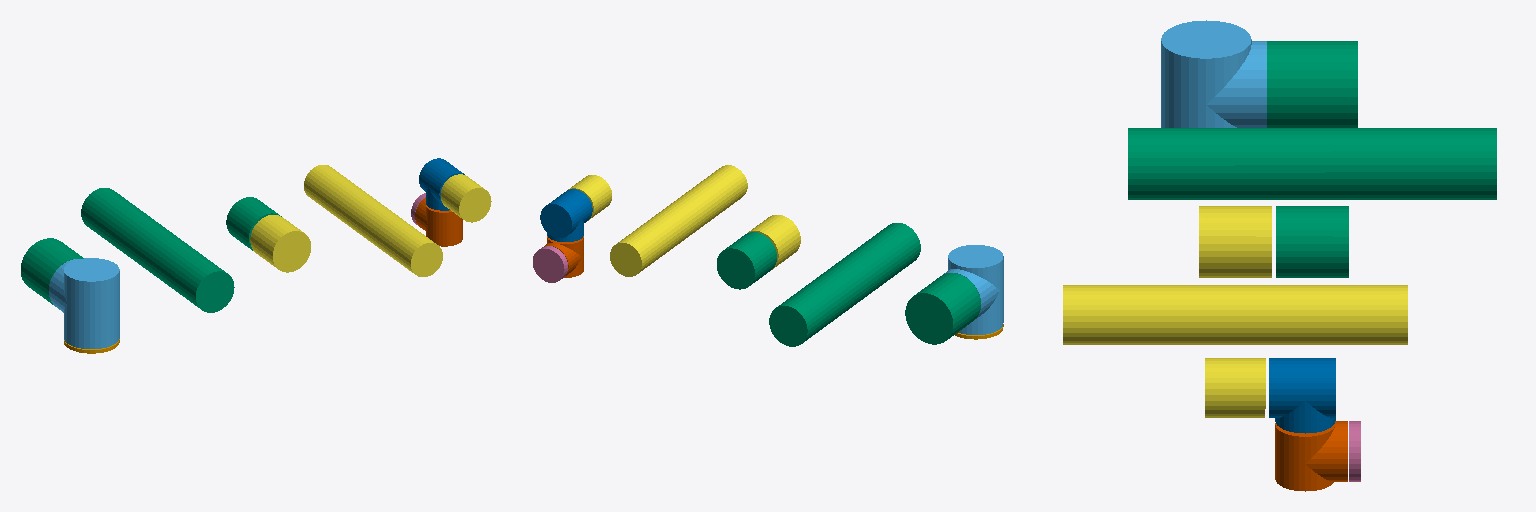
URDF robot description (UR10_CB3):
<robot name="UR10_CB3">
    <link name="base">
        <visual>
            <origin xyz="0 0 0.005" rpy="0 0 0"/>
            <geometry>
                <cylinder radius="0.075" length="0.01"/>
            </geometry>
        </visual>
        <inertial>
            <mass value="7.1"/>
        </inertial>
    </link>
    <link name="shoulder" >
        <visual>
            <origin xyz="0 0.0 0.1125" rpy="0 0 0"/>
            <geometry>
                <cylinder radius="0.075" length="0.20"/>
            </geometry>
        </visual>
        <visual>
            <origin xyz="0 .05 0.128" rpy="1.57 0 0"/>
            <geometry>
                <cylinder radius="0.075" length="0.1"/>
            </geometry>
        </visual>
        <inertial>
            <mass value="12.7"/>
        </inertial>
    </link>
    <link name="elbow" >
        <visual>
            <origin xyz="0 0 0" rpy="1.57 0 0"/>
            <geometry>
                <cylinder radius="0.075" length="0.15"/>
            </geometry>
        </visual>
        <visual>
            <origin xyz="0.306 0 0" rpy="1.57 1.57 0"/>
            <geometry>
                <cylinder radius="0.06" length="0.612"/>
            </geometry>
        </visual>
        <visual>
            <origin xyz="0.612 0 0" rpy="1.57 0 0"/>
            <geometry>
                <cylinder radius="0.06" length="0.12"/>
            </geometry>
        </visual>
        <inertial>
            <mass value="4.27"/>
        </inertial>
    </link>
    <link name="wrist_1" >
        <visual>
            <origin xyz="0 0 0" rpy="1.57 0 0"/>
            <geometry>
                <cylinder radius="0.06" length="0.12"/>
            </geometry>
        </visual>
        <visual>
            <origin xyz="0.286 0 0" rpy="1.57 1.57 0"/>
            <geometry>
                <cylinder radius="0.05" length="0.572"/>
            </geometry>
        </visual>
        <visual>
            <origin xyz="0.572 0 0" rpy="1.57 0 0"/>
            <geometry>
                <cylinder radius="0.05" length="0.1"/>
            </geometry>
        </visual>
        <inertial>
            <mass value="2"/>
        </inertial>
    </link>
    <link name="wrist_2" >
        <visual>
            <origin xyz="0.0 -0.005 0" rpy="1.57 0 0"/>
            <geometry>
                <cylinder radius="0.05" length="0.110"/>
            </geometry>
        </visual>
        <visual>
            <origin xyz="0.0 0 -0.03" rpy="0 0 0"/>
            <geometry>
                <cylinder radius="0.05" length="0.06"/>
            </geometry>
        </visual>
        <inertial>
            <mass value="2"/>
        </inertial>
    </link>
    <link name="wrist_3" >
        <visual>
            <origin xyz="0.0 0 0.0" rpy="0 0 0"/>
            <geometry>
                <cylinder radius="0.05" length="0.10"/>
            </geometry>
        </visual>
        <visual>
            <origin xyz="0.0 0.035 0.0" rpy="1.57 0 0"/>
            <geometry>
                <cylinder radius="0.05" length="0.07"/>
            </geometry>
        </visual>
        <inertial>
            <mass value="0.365"/>
        </inertial>
    </link>
    <link name="tool" >
        <inertial>
            <mass value="0.01"/>
        </inertial>
        <visual>
            <origin xyz="0.0 -0.01 0.0" rpy="1.57 0 0"/>
            <geometry>
                <cylinder radius="0.05" length="0.02"/>
            </geometry>
        </visual>
    </link>
    <joint name="joint_base" type="revolute">
        <origin xyz="0 0 0" rpy="0 0 0"/>
        <axis xyz="0 0 1" />
        <limit upper="6.28318" lower="-6.28318" velocity="2.0944" effort="330" />
        <parent link="base" />
        <child link ="shoulder" />
    </joint>
    <joint name="joint_shoulder" type="revolute">
        <origin xyz="0 .176 0.128" rpy="0 0 0"/>
        <axis xyz="0 1 0" />
        <limit upper="6.28318" lower="-6.28318" velocity="2.0944" effort="330.0" />
        <parent link ="shoulder" />
        <child link="elbow" />
    </joint>
    <joint name="joint_elbow" type="revolute">
        <origin xyz="0.612 -0.128 0" rpy="0 0 0"/>
        <axis xyz="0 1 0" />
        <limit upper="6.28318" lower="-6.28318" velocity="3.14159" effort="150.0" />
        <parent link ="elbow" />
        <child link="wrist_1" />
    </joint>
    <joint name="joint_wrist_1" type="revolute">
        <origin xyz="0.572 0.116 0" rpy="0 0 0"/>
        <axis xyz="0 1 0" />
        <limit upper="6.28318" lower="-6.28318" velocity="3.14159" effort="56.0" />
        <parent link ="wrist_1" />
        <child link="wrist_2" />
    </joint>
    <joint name="joint_wrist_2" type="revolute">
        <origin xyz="0 0 -0.116" rpy="0 0 0"/>
        <axis xyz="0 0 -1" />
        <limit upper="6.28318" lower="-6.28318" velocity="3.14159" effort="56.0" />
        <parent link ="wrist_2" />
        <child link="wrist_3" />
    </joint>
    <joint name="joint_wrist_3" type="revolute">
        <origin xyz="0 0.092 0" rpy="0 0 0"/>
        <axis xyz="0 1 0" />
        <limit upper="6.28318" lower="-6.28318" velocity="3.14159" effort="56.0" />
        <parent link ="wrist_3" />
        <child link="tool" />
    </joint>
</robot>

--- What the picture shows (computed from the rendered views, not written in the file) ---
The picture shows the robot from 3 angles, left to right: view 1: azimuth 30°, elevation 25°; view 2: azimuth 150°, elevation 25°; view 3: azimuth 270°, elevation 25°; orthographic projection.
Model UR10_CB3 with 7 links and 6 joints (6 revolute), rooted at base, posed all joints at 0.
Links seen in each view (by area): view 1: elbow, wrist_1, shoulder, wrist_3, wrist_2; view 2: elbow, wrist_1, shoulder, wrist_2, tool, wrist_3; view 3: elbow, wrist_1, shoulder, wrist_2, wrist_3, tool.
Boxes of the visible links, left/top/right/bottom form: elbow: left=21, top=188, right=281, bottom=312; wrist_1: left=250, top=165, right=491, bottom=276; shoulder: left=49, top=258, right=119, bottom=348; wrist_3: left=415, top=198, right=462, bottom=246; wrist_2: left=419, top=158, right=464, bottom=210; elbow: left=717, top=223, right=980, bottom=346; wrist_1: left=568, top=165, right=800, bottom=276; shoulder: left=944, top=245, right=1003, bottom=334; wrist_2: left=540, top=189, right=592, bottom=241; tool: left=533, top=246, right=567, bottom=282; wrist_3: left=544, top=236, right=583, bottom=277; elbow: left=1128, top=41, right=1496, bottom=277; wrist_1: left=1063, top=206, right=1407, bottom=417; shoulder: left=1161, top=20, right=1266, bottom=127; wrist_2: left=1269, top=358, right=1335, bottom=433; wrist_3: left=1275, top=421, right=1347, bottom=491; tool: left=1349, top=421, right=1360, bottom=481.
Bounding box of the posed robot: 1.31 × 0.7201 × 0.2505 m (x, y, z).
Geometry: primitives only (box / cylinder / sphere), no mesh files.
